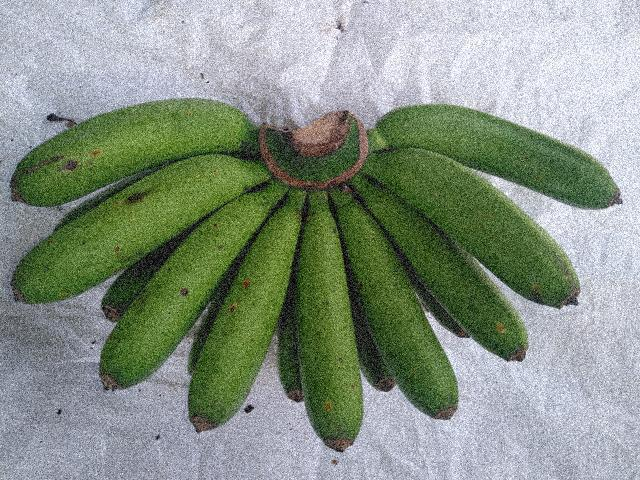unripe: (386, 83, 628, 228), (5, 81, 276, 202), (274, 187, 379, 479), (417, 141, 591, 317), (189, 235, 308, 443)
